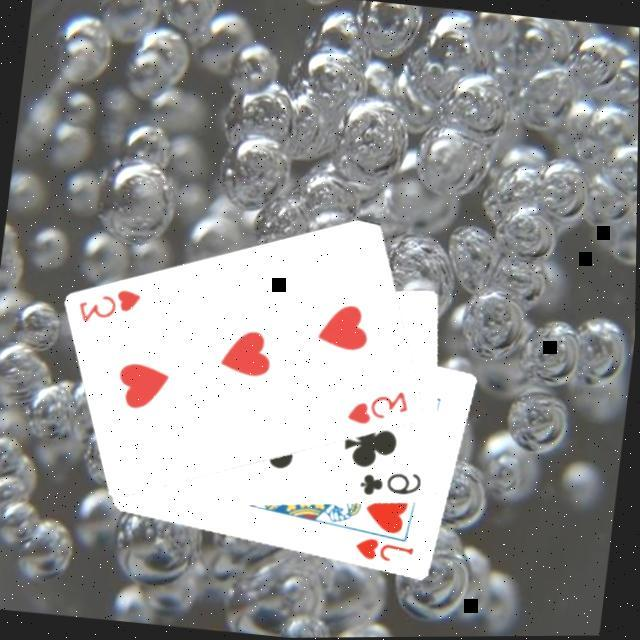3H: (77, 280, 149, 330), (346, 382, 417, 432)
6C: (358, 462, 428, 503)
JH: (353, 533, 420, 568)
